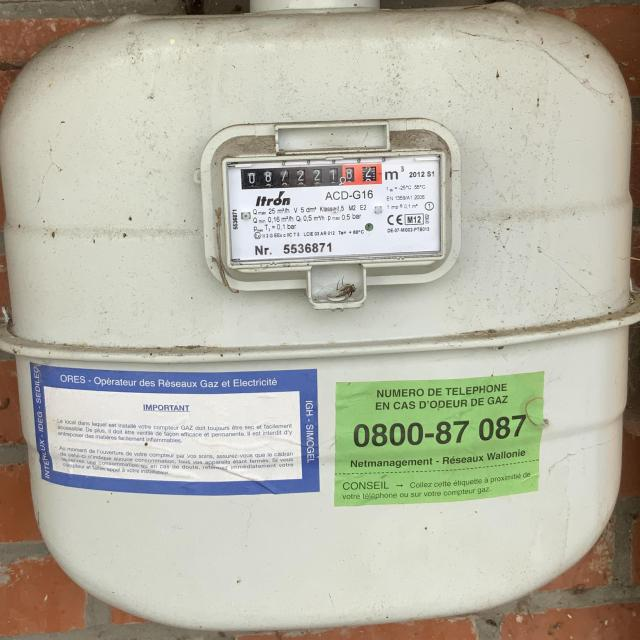gaz_meter: (223, 160, 443, 256)
indication: (240, 162, 384, 190)
